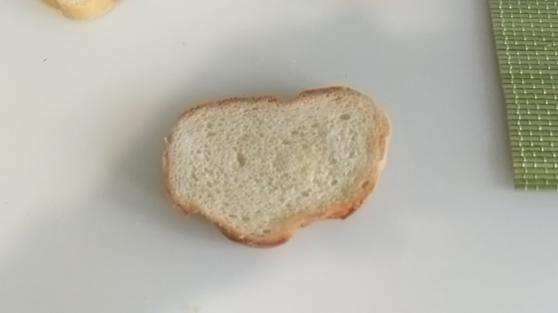white_bread: (164, 83, 393, 247)
